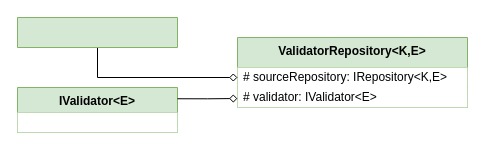
Some shapes in this 485 by 150 pixel diagram are drawn without their labels. Each missing label, with the centre of its shape:
"+ validate(E entity): void" belongs at (97,122).
"IRepository<K,E>" belongs at (97,32).
